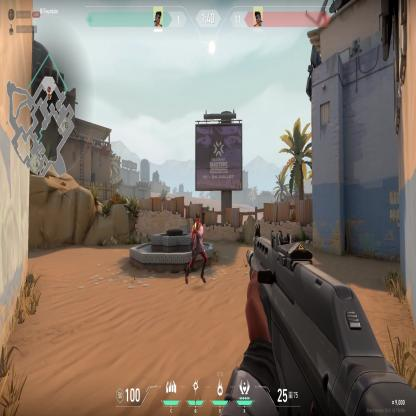enemy: (185, 212, 207, 286)
